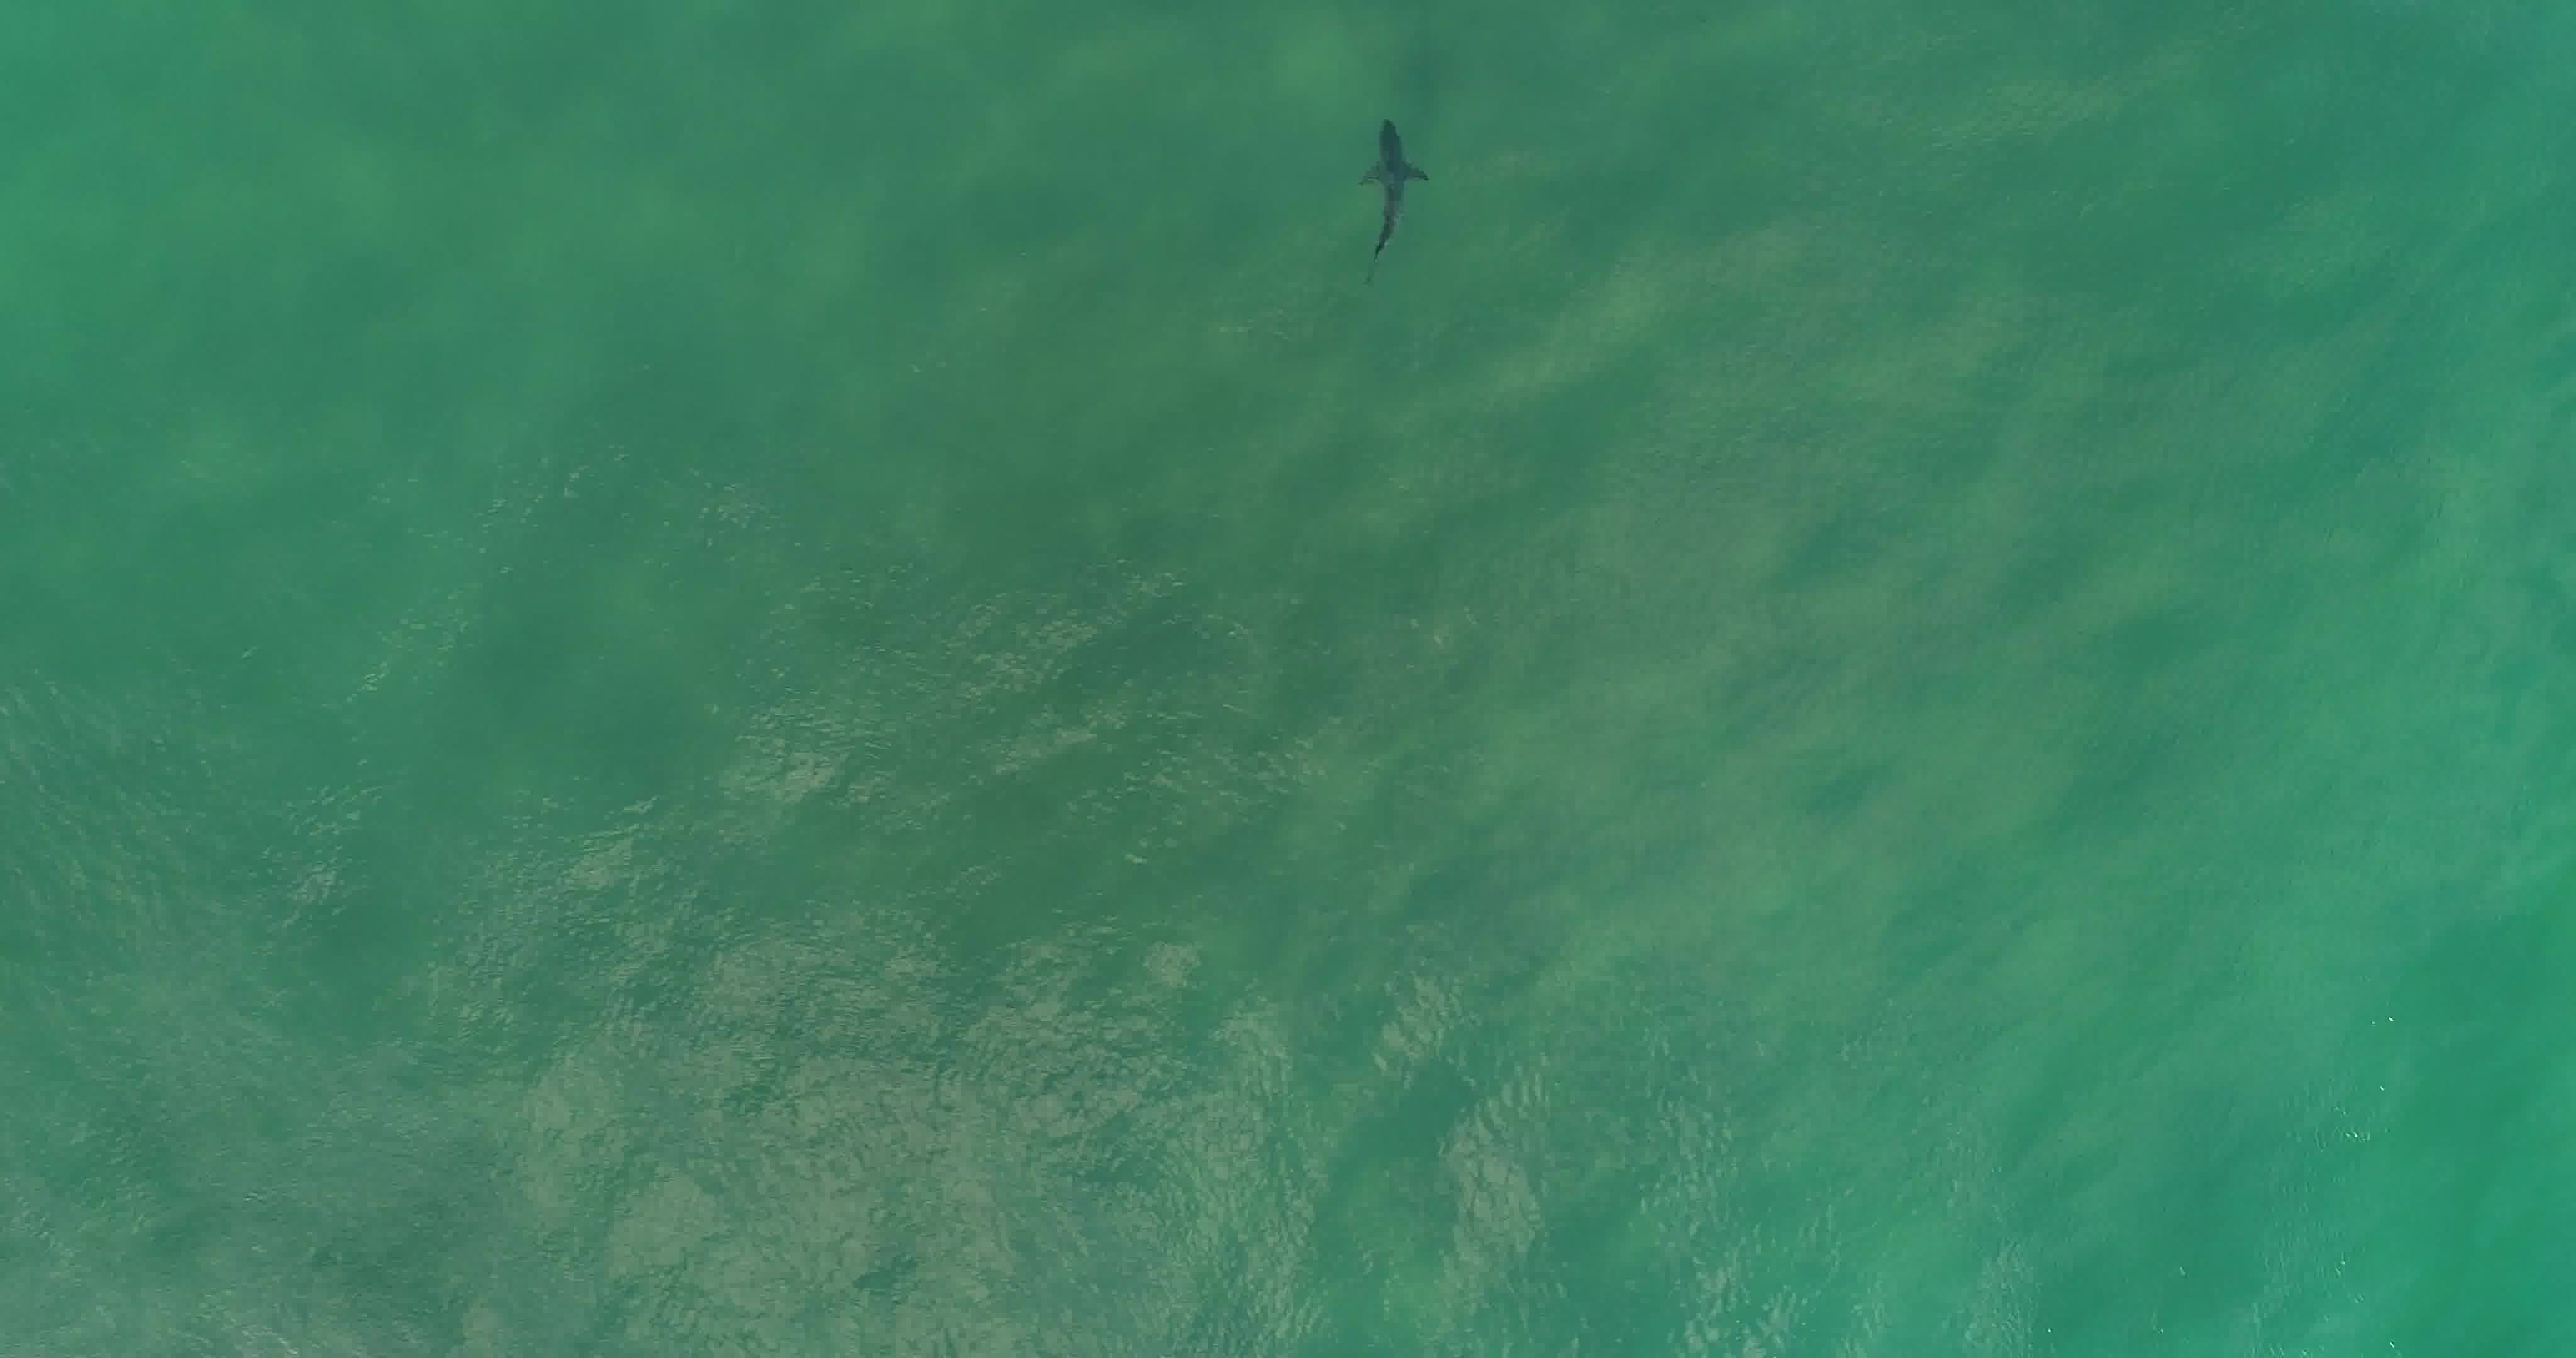shark: (1349, 114, 1440, 268)
